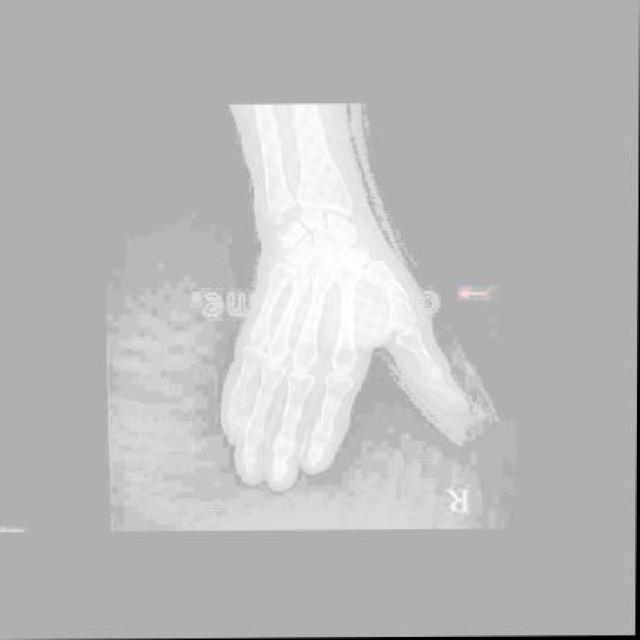Fracture: (383, 285, 413, 313)
